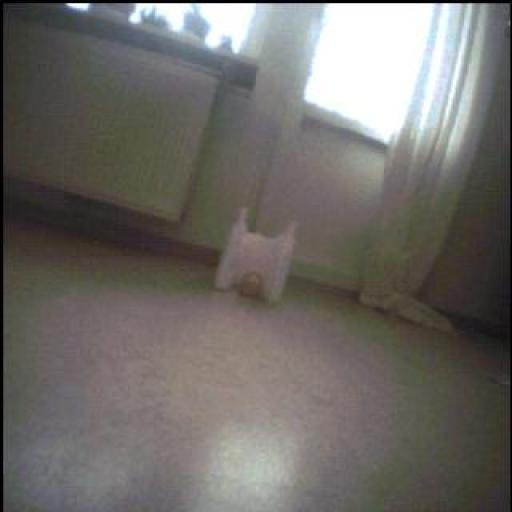Basket: (233, 268, 268, 304)
